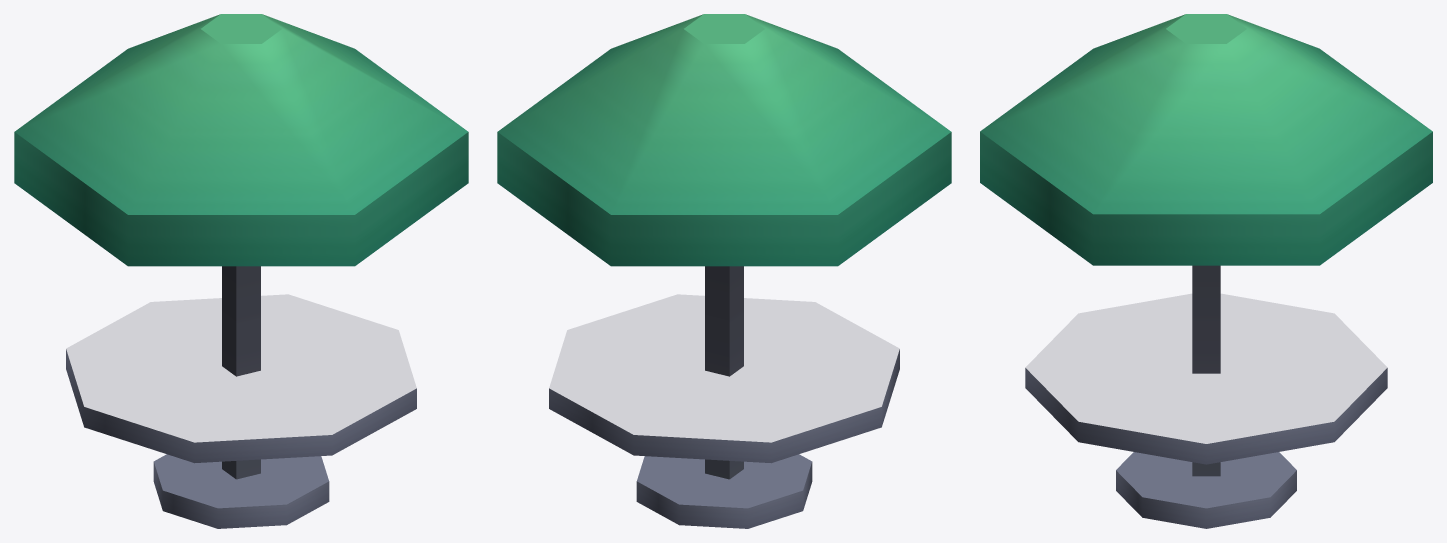
Rendered from detail-parasol-a.glb.
3 renders of one model, left to right at view 1: azimuth 30°, elevation 25°; view 2: azimuth 150°, elevation 25°; view 3: azimuth 270°, elevation 25°, orthographic.
Parts seen in each view (by area): view 1: detail-parasol-a; view 2: detail-parasol-a; view 3: detail-parasol-a.
Part boxes in pixels (bbox=[...]): detail-parasol-a: bbox=[14, 14, 468, 528]; detail-parasol-a: bbox=[497, 14, 951, 528]; detail-parasol-a: bbox=[980, 14, 1432, 528].
Bounding box in the file's own units: 0.3464 × 0.45 × 0.4.
1 material, 1 textured.
